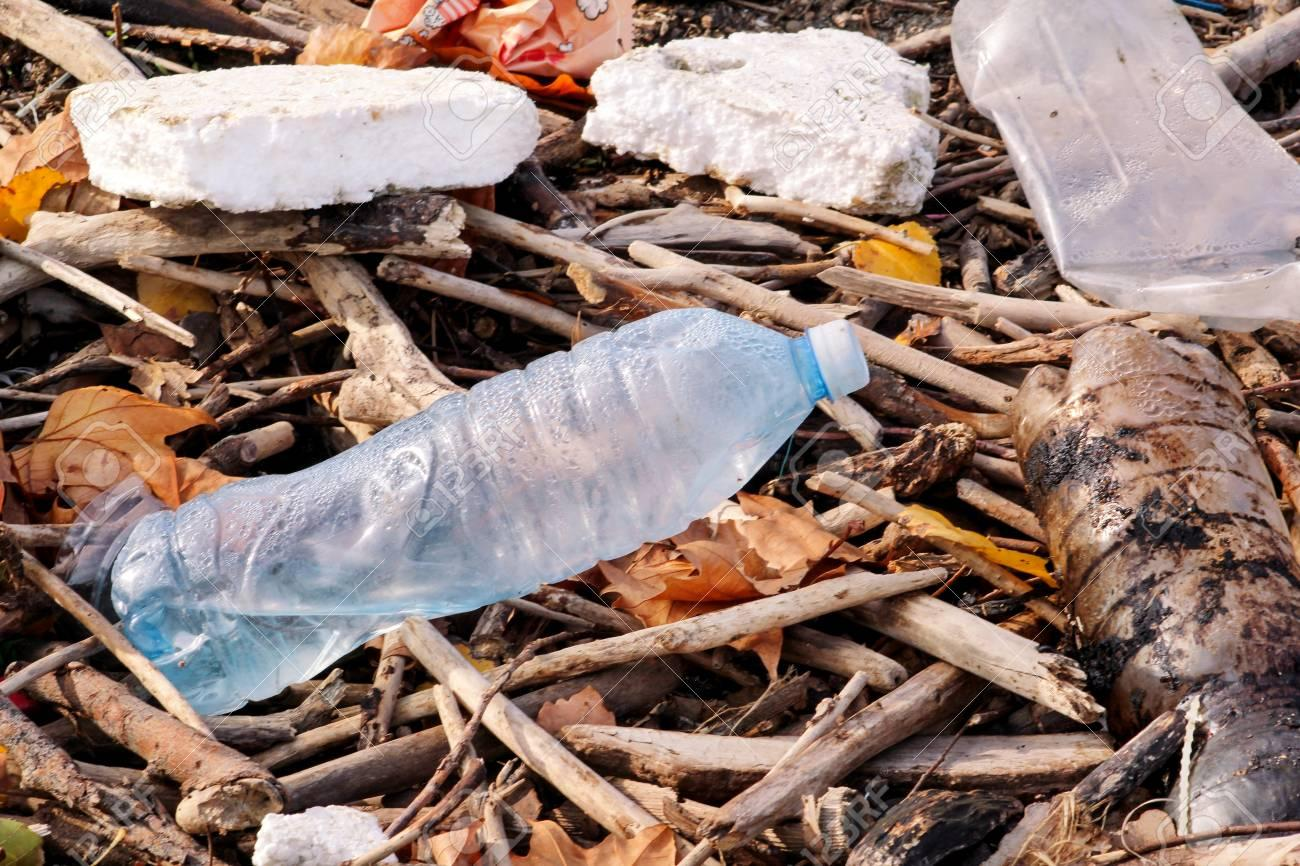paper: (83, 246, 899, 739)
